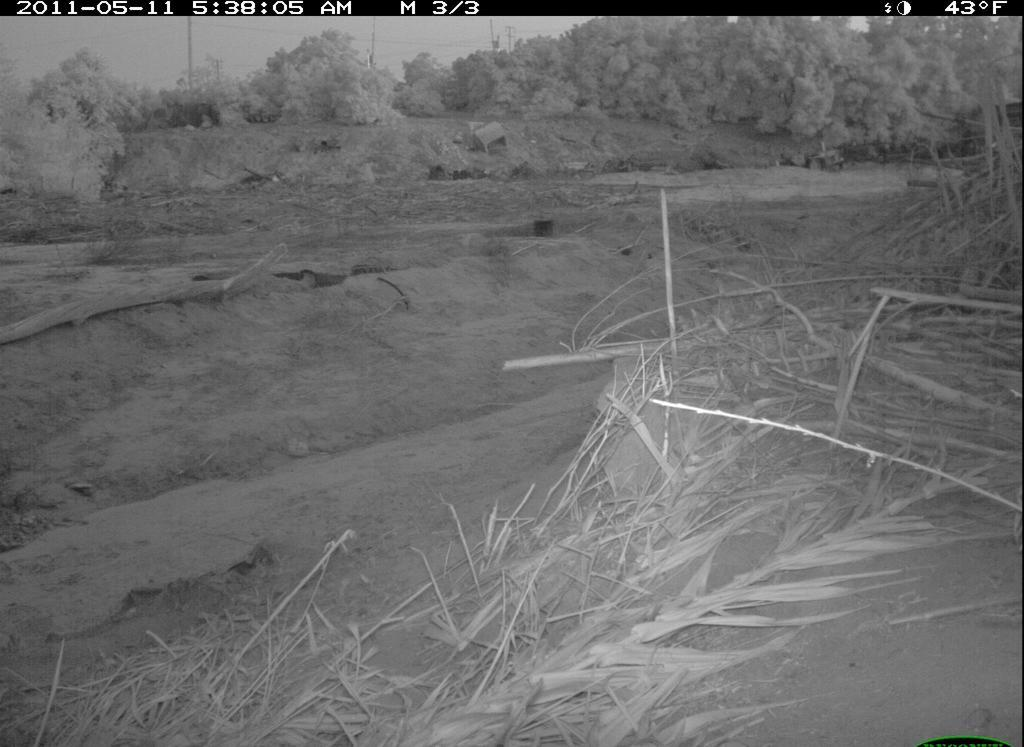rabbit: (49, 515, 308, 698)
